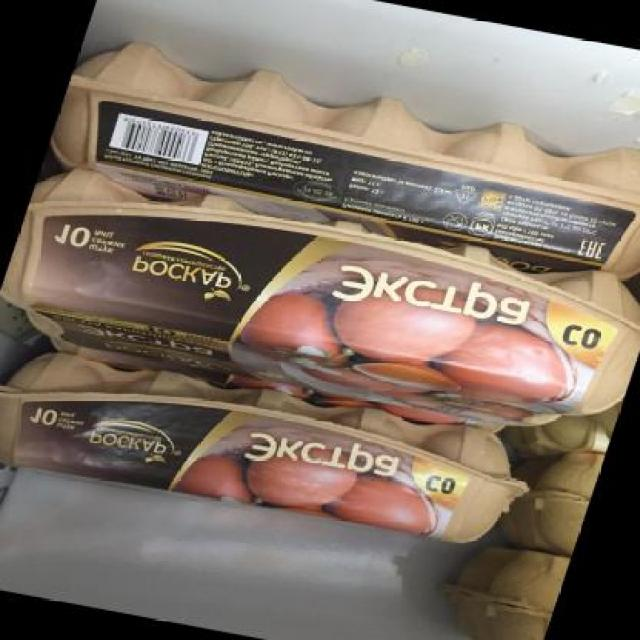Egg: (1, 160, 640, 449), (0, 332, 551, 560)
